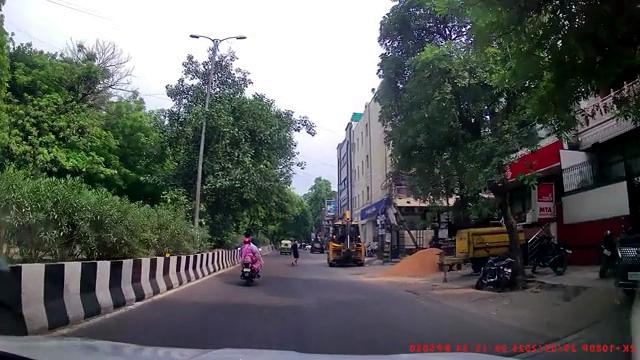passenger_with_helmet: (236, 233, 265, 286)
